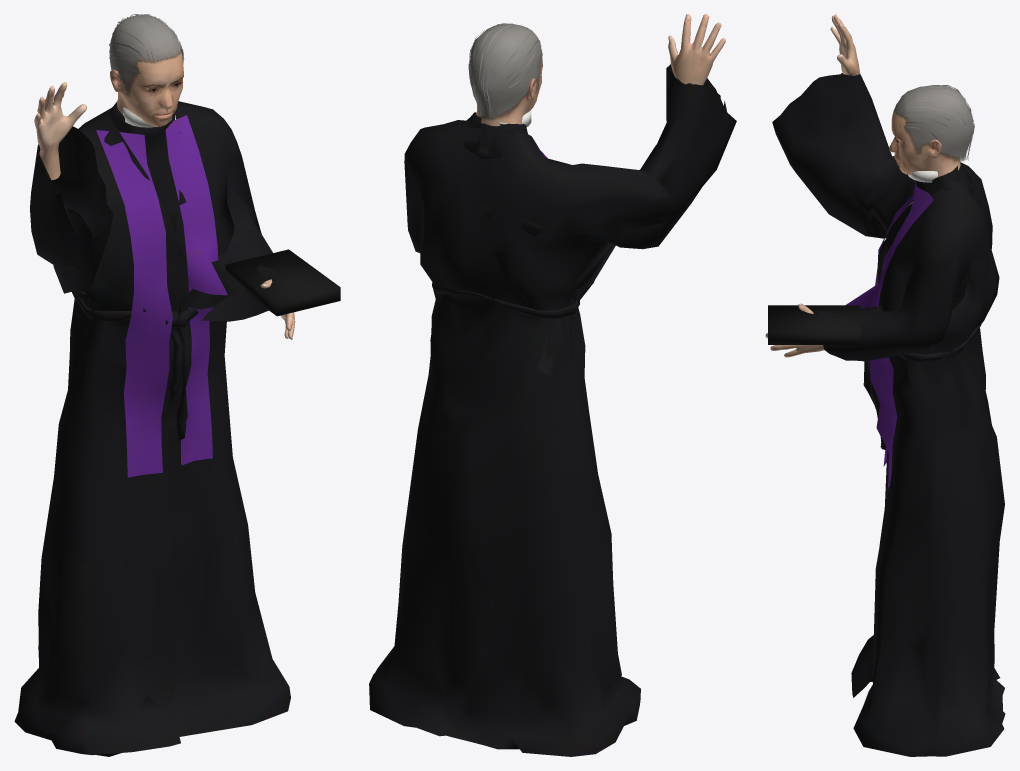
The model's file is mq-priest.glb.
The picture shows the model from 3 angles, left to right: view 1: azimuth 30°, elevation 25°; view 2: azimuth 150°, elevation 25°; view 3: azimuth 270°, elevation 25°; orthographic projection. The views are drawn at different scales.
Visible parts, largest first — view 1: MQ_priest; view 2: MQ_priest; view 3: MQ_priest.
Boxes of the visible parts, x1,y1,x2,y2 form: MQ_priest: (14, 14, 340, 756); MQ_priest: (369, 14, 736, 756); MQ_priest: (765, 14, 1005, 756).
Size of the model in its own units: 0.785 by 1.8 by 0.6235.
1 material, 1 textured.
